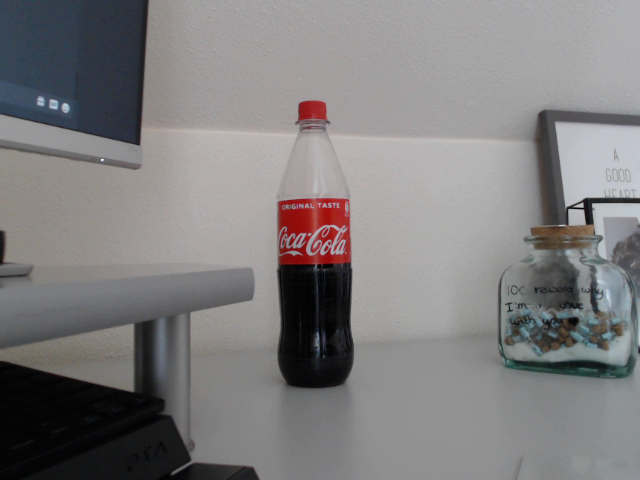bottle: (275, 97, 355, 390)
